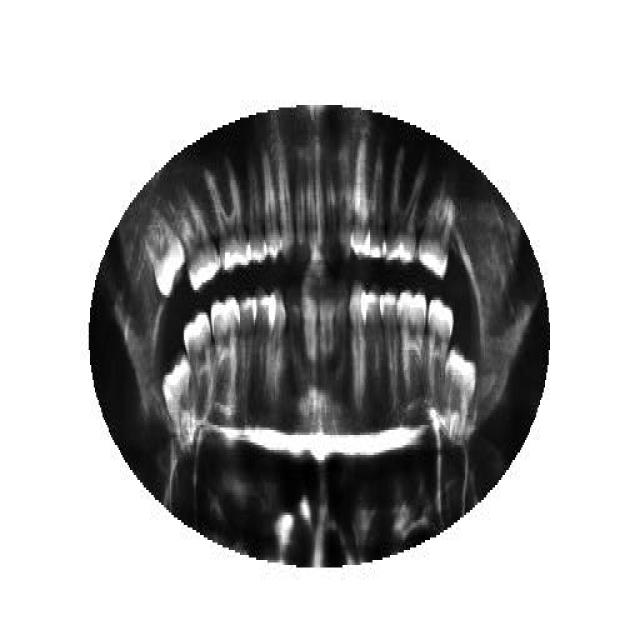Fillings: (204, 162, 248, 272)
Impacted Tooth: (141, 212, 185, 298)
